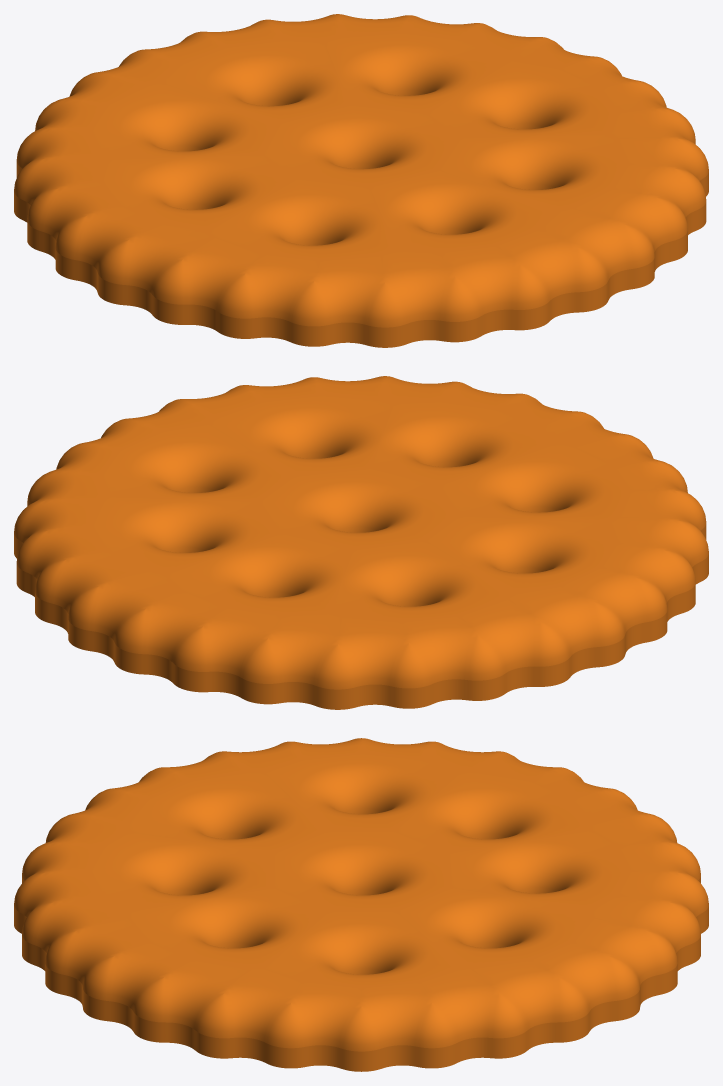
File: cracker 1.fbx
The picture shows the model from 3 angles, top to bottom: view 1: azimuth 30°, elevation 25°; view 2: azimuth 150°, elevation 25°; view 3: azimuth 270°, elevation 25°; orthographic projection.
Parts seen in each view (by area): view 1: Asset 5; view 2: Asset 5; view 3: Asset 5.
Part boxes in pixels (x1,y1,x2,y2): Asset 5: (14, 14, 708, 347); Asset 5: (14, 376, 708, 709); Asset 5: (14, 738, 708, 1071).
Bounding box in the file's own units: 48.78 × 4.16 × 48.78.
